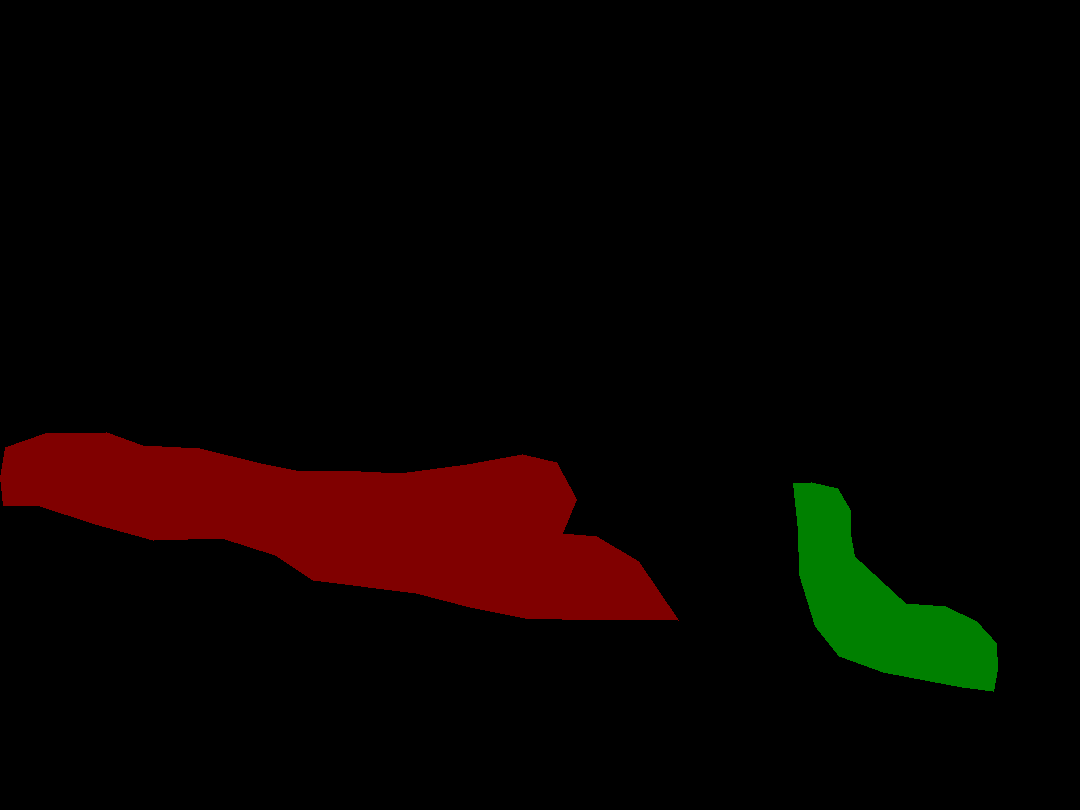fire: (0, 432, 678, 620), (793, 482, 997, 691)
